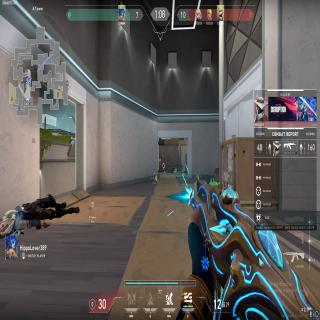ENEMY-BODY: (162, 162, 165, 172)
ENEMY-HEAD: (162, 162, 165, 165)
